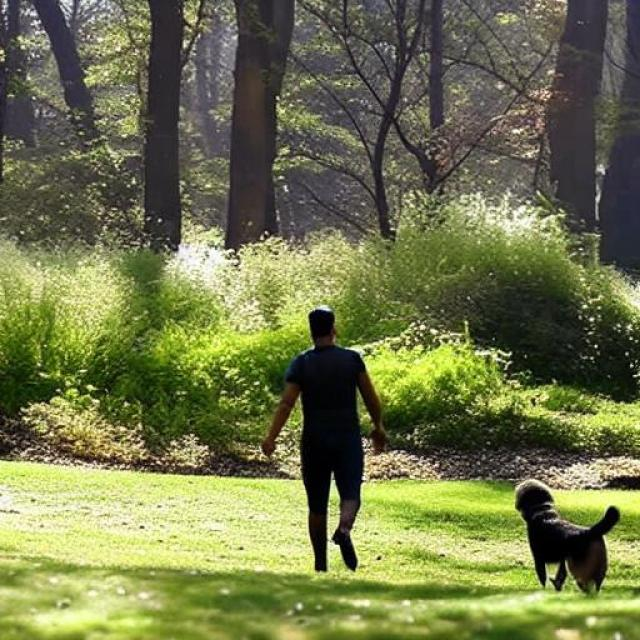Unleashed_Dog: (304, 427, 620, 593)
